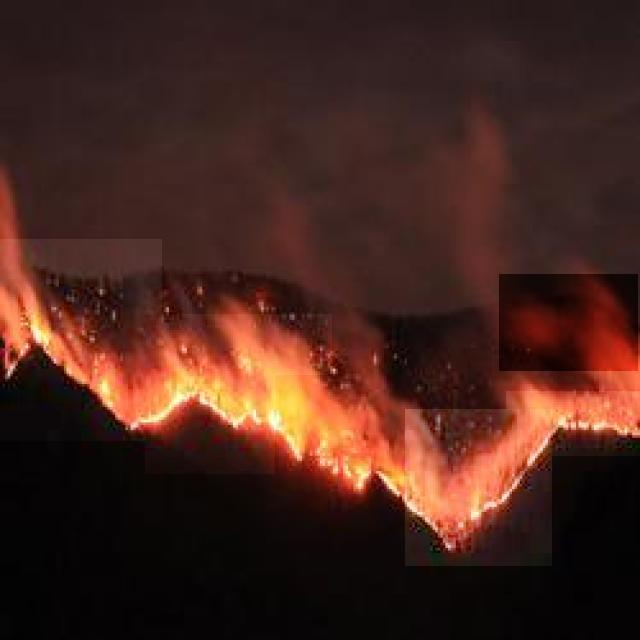Fire: (0, 239, 162, 441), (145, 314, 332, 474), (275, 375, 455, 520), (405, 409, 552, 566), (506, 391, 640, 456)
Smoke: (499, 274, 638, 371)
